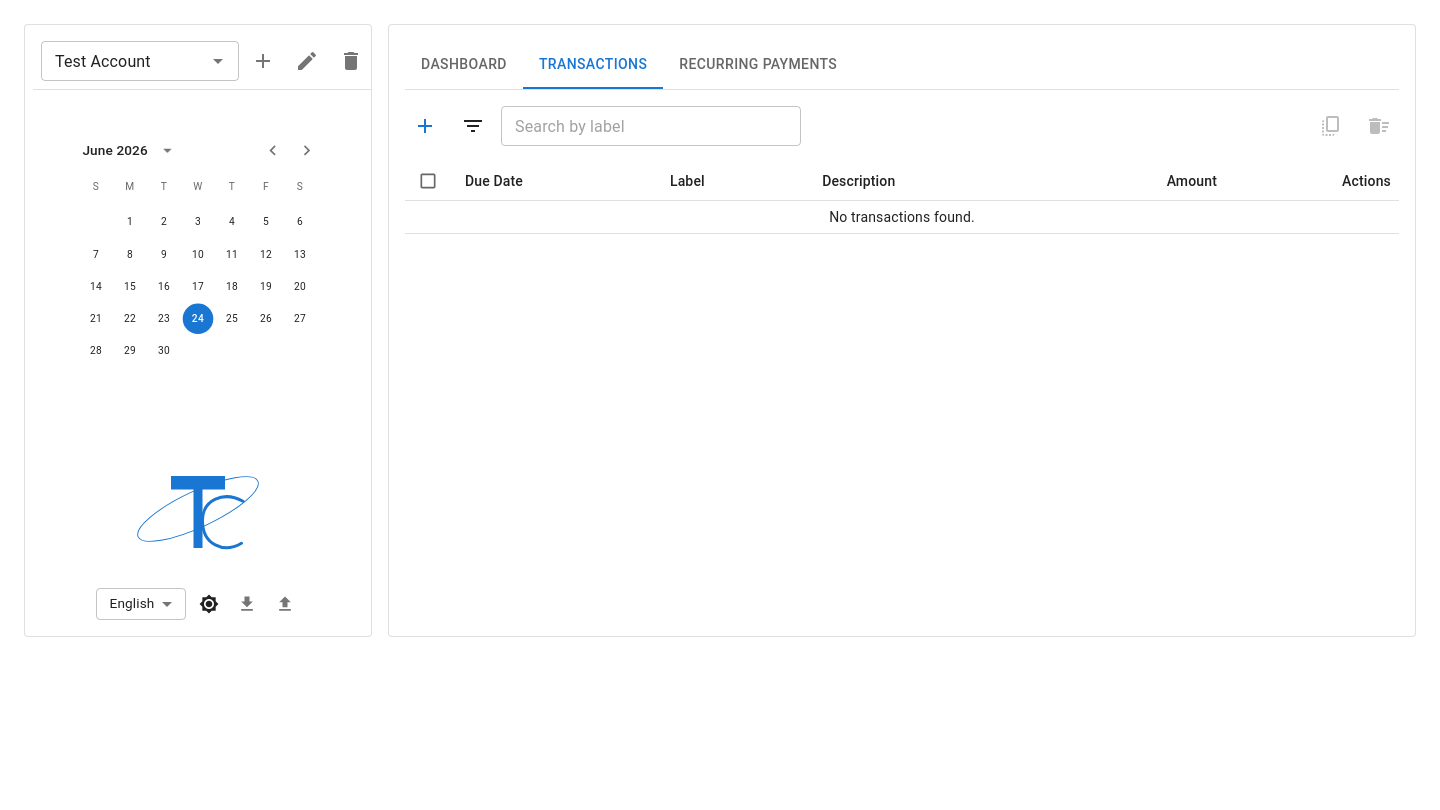
TransactionEditionArea › opens the filter dialog when filter button is clicked
Click the button named "filter". click: (473, 126)
box: left=453, top=106, right=493, bottom=146
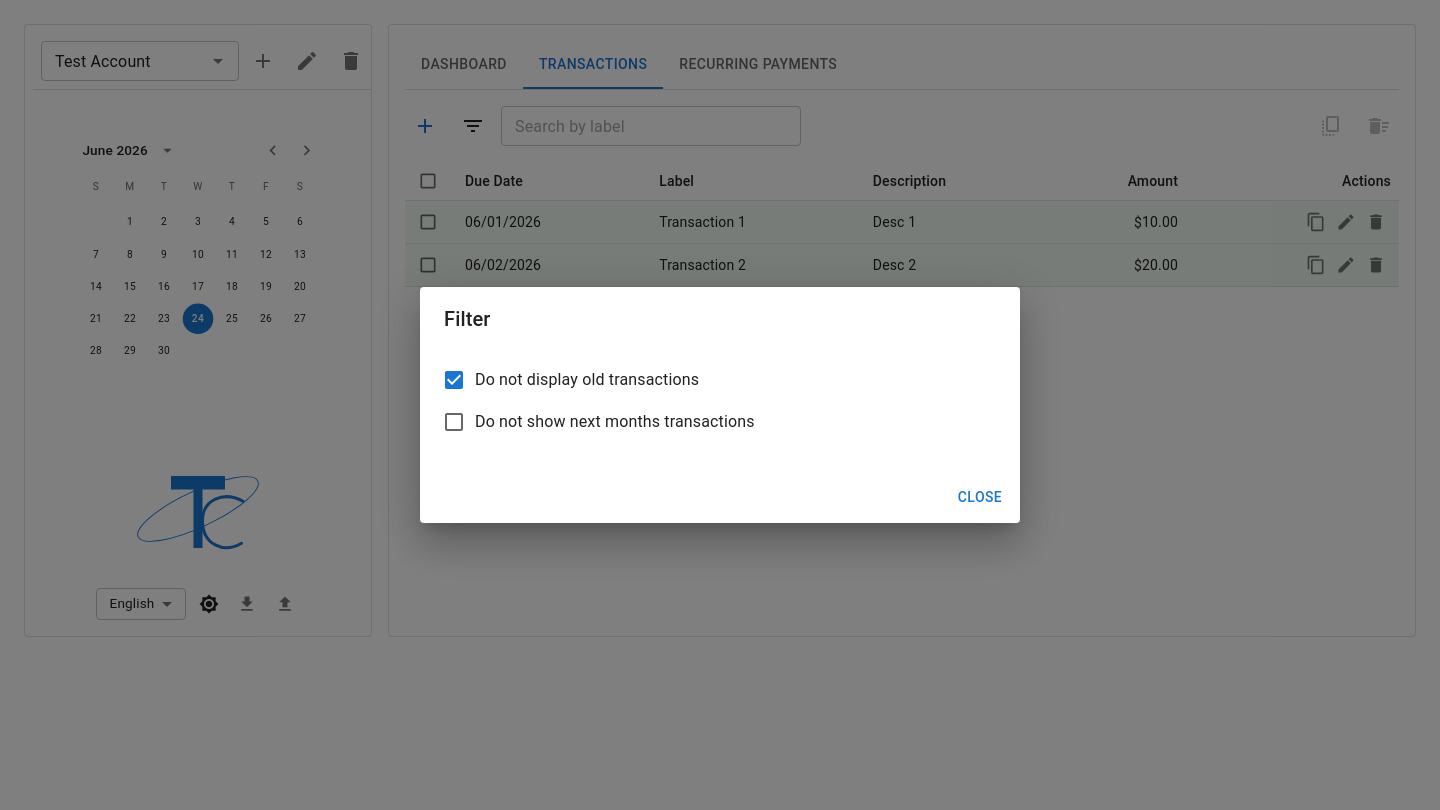
expect the heading "Filter" is shown: met, box left=444, top=307, right=491, bottom=331
